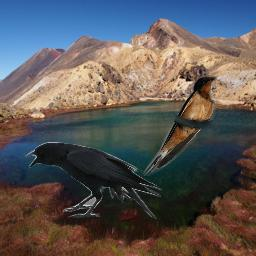Crow: (25, 142, 163, 219)
Swallow: (140, 74, 219, 176)
